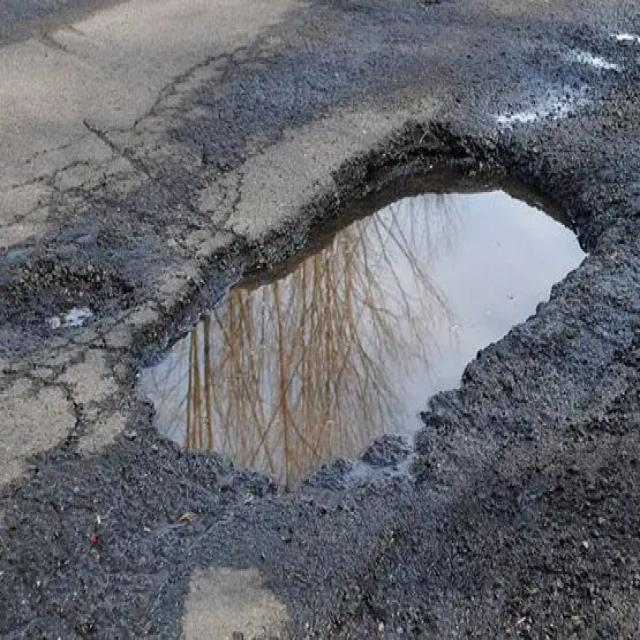Buraco: (113, 117, 610, 501), (0, 248, 145, 342)
